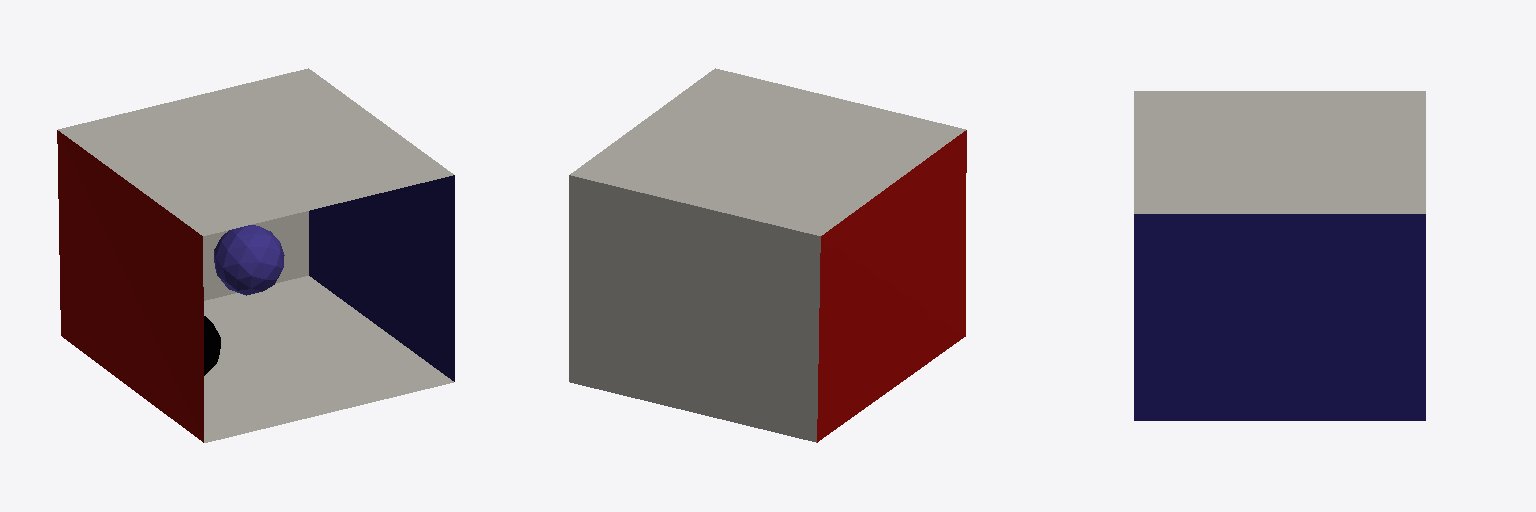
Rendered from CornellBox-Sphere-1121.obj.
3 views of the same model, side by side, from view 1: azimuth 30°, elevation 25°; view 2: azimuth 150°, elevation 25°; view 3: azimuth 270°, elevation 25° (orthographic).
Visible parts, largest first — view 1: ceiling, leftWall, floor, rightWall, leftSphere, backWall, rightSphere; view 2: backWall, ceiling, leftWall; view 3: rightWall, ceiling.
Part boxes in pixels (x1,y1,x2,y2): ceiling: (58, 68, 453, 235); leftWall: (57, 130, 203, 442); floor: (204, 276, 453, 442); rightWall: (309, 175, 454, 381); leftSphere: (214, 225, 284, 295); backWall: (203, 211, 308, 300); rightSphere: (204, 316, 220, 375); backWall: (569, 175, 820, 442); ceiling: (570, 68, 965, 235); leftWall: (817, 130, 966, 442); rightWall: (1134, 214, 1425, 420); ceiling: (1134, 91, 1425, 213).
Size of the model in its own units: 2.02 by 1.59 by 2.03.